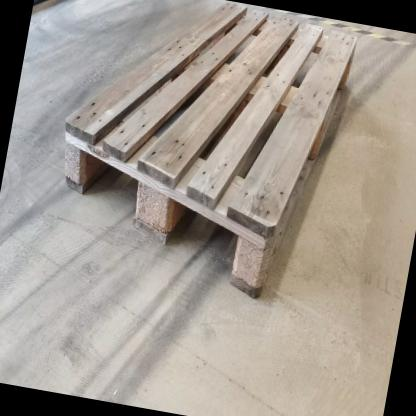BoxFace: (55, 2, 360, 303)
